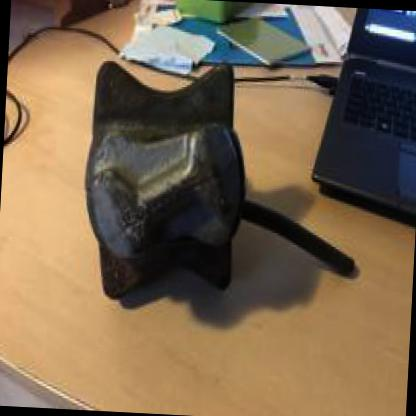Twistlock: (69, 44, 378, 321)
